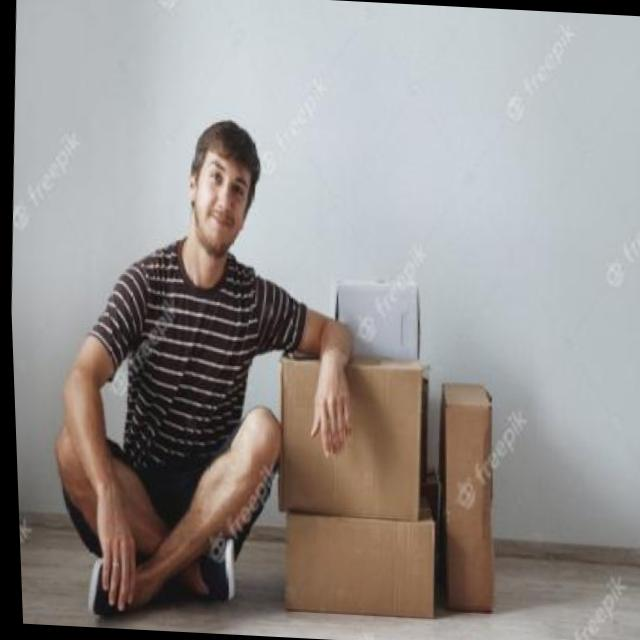box: (261, 331, 438, 534), (265, 481, 447, 640), (422, 372, 514, 628), (314, 250, 436, 384)
